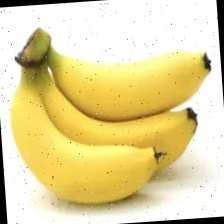banana: (48, 34, 189, 177)
